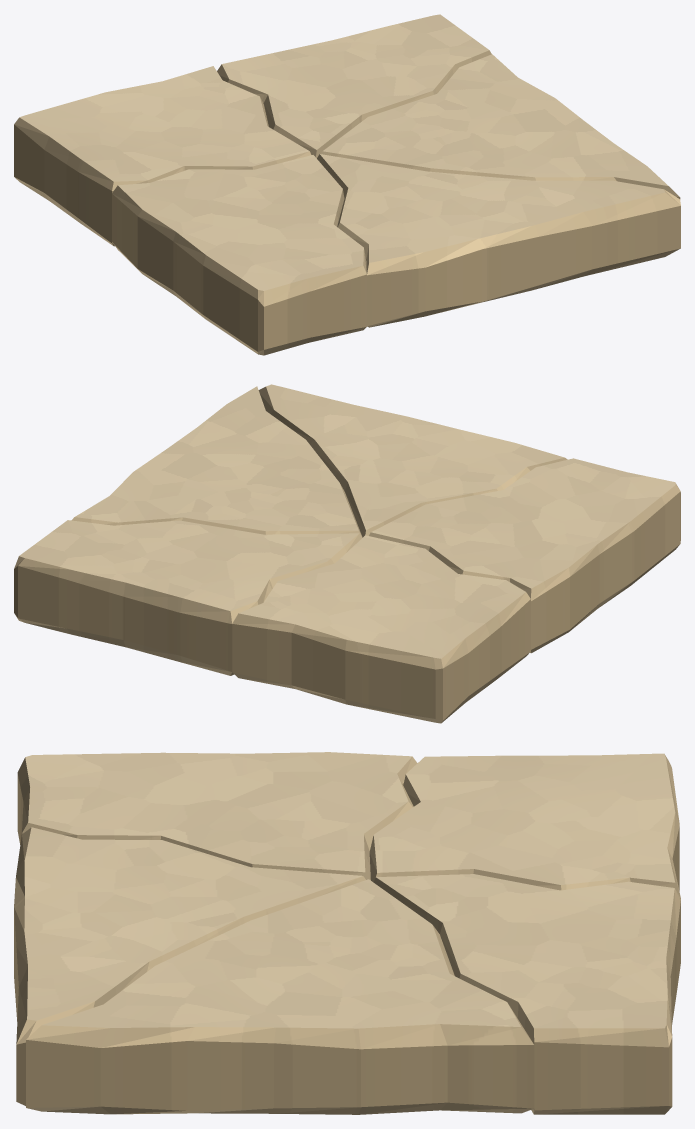
The model's file is tile_c_fragments.glb.
The picture shows the model from 3 angles, top to bottom: view 1: azimuth 30°, elevation 25°; view 2: azimuth 150°, elevation 25°; view 3: azimuth 270°, elevation 25°; orthographic projection. The views are drawn at different scales.
Parts seen in each view (by area): view 1: fragment_c_01, fragment_c_05, fragment_c_04, fragment_c_02, fragment_c_03; view 2: fragment_c_04, fragment_c_03, fragment_c_05, fragment_c_02, fragment_c_01; view 3: fragment_c_02, fragment_c_03, fragment_c_05, fragment_c_01, fragment_c_04.
Part boxes in pixels (x1,y1,x2,y2): fragment_c_01: (317,154,680,327); fragment_c_05: (112,155,366,355); fragment_c_04: (14,66,311,246); fragment_c_02: (321,54,680,198); fragment_c_03: (217,14,491,158); fragment_c_04: (232,535,530,723); fragment_c_03: (14,520,361,675); fragment_c_05: (369,458,680,653); fragment_c_02: (71,386,362,537); fragment_c_01: (258,384,567,537); fragment_c_02: (26,879,534,1114); fragment_c_03: (373,874,680,1114); fragment_c_05: (17,752,417,880); fragment_c_01: (14,827,365,1105); fragment_c_04: (369,753,680,898).
Bounding box in the file's own units: 2.8 × 0.4 × 2.8.
3 materials, 3 textured.
